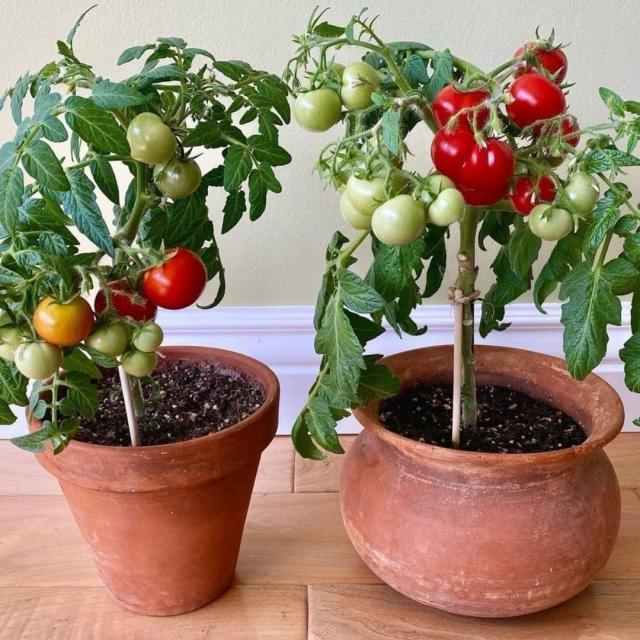level 1: (150, 154, 203, 199)
level 2: (346, 158, 409, 213), (372, 193, 428, 246), (360, 134, 416, 181), (125, 115, 178, 163), (340, 184, 394, 229), (294, 87, 345, 134), (555, 167, 602, 216), (339, 63, 383, 109), (86, 322, 136, 362), (412, 170, 456, 215), (18, 342, 66, 381), (0, 319, 43, 358), (530, 205, 575, 240), (428, 186, 466, 227), (132, 320, 164, 354), (121, 350, 159, 377)
level 4: (35, 297, 95, 345)
level 6: (142, 248, 209, 311), (508, 75, 567, 135), (427, 124, 488, 179), (433, 78, 495, 132), (95, 281, 155, 332), (450, 162, 512, 205), (462, 134, 517, 182), (516, 42, 567, 88), (510, 173, 559, 220), (539, 112, 582, 158)
